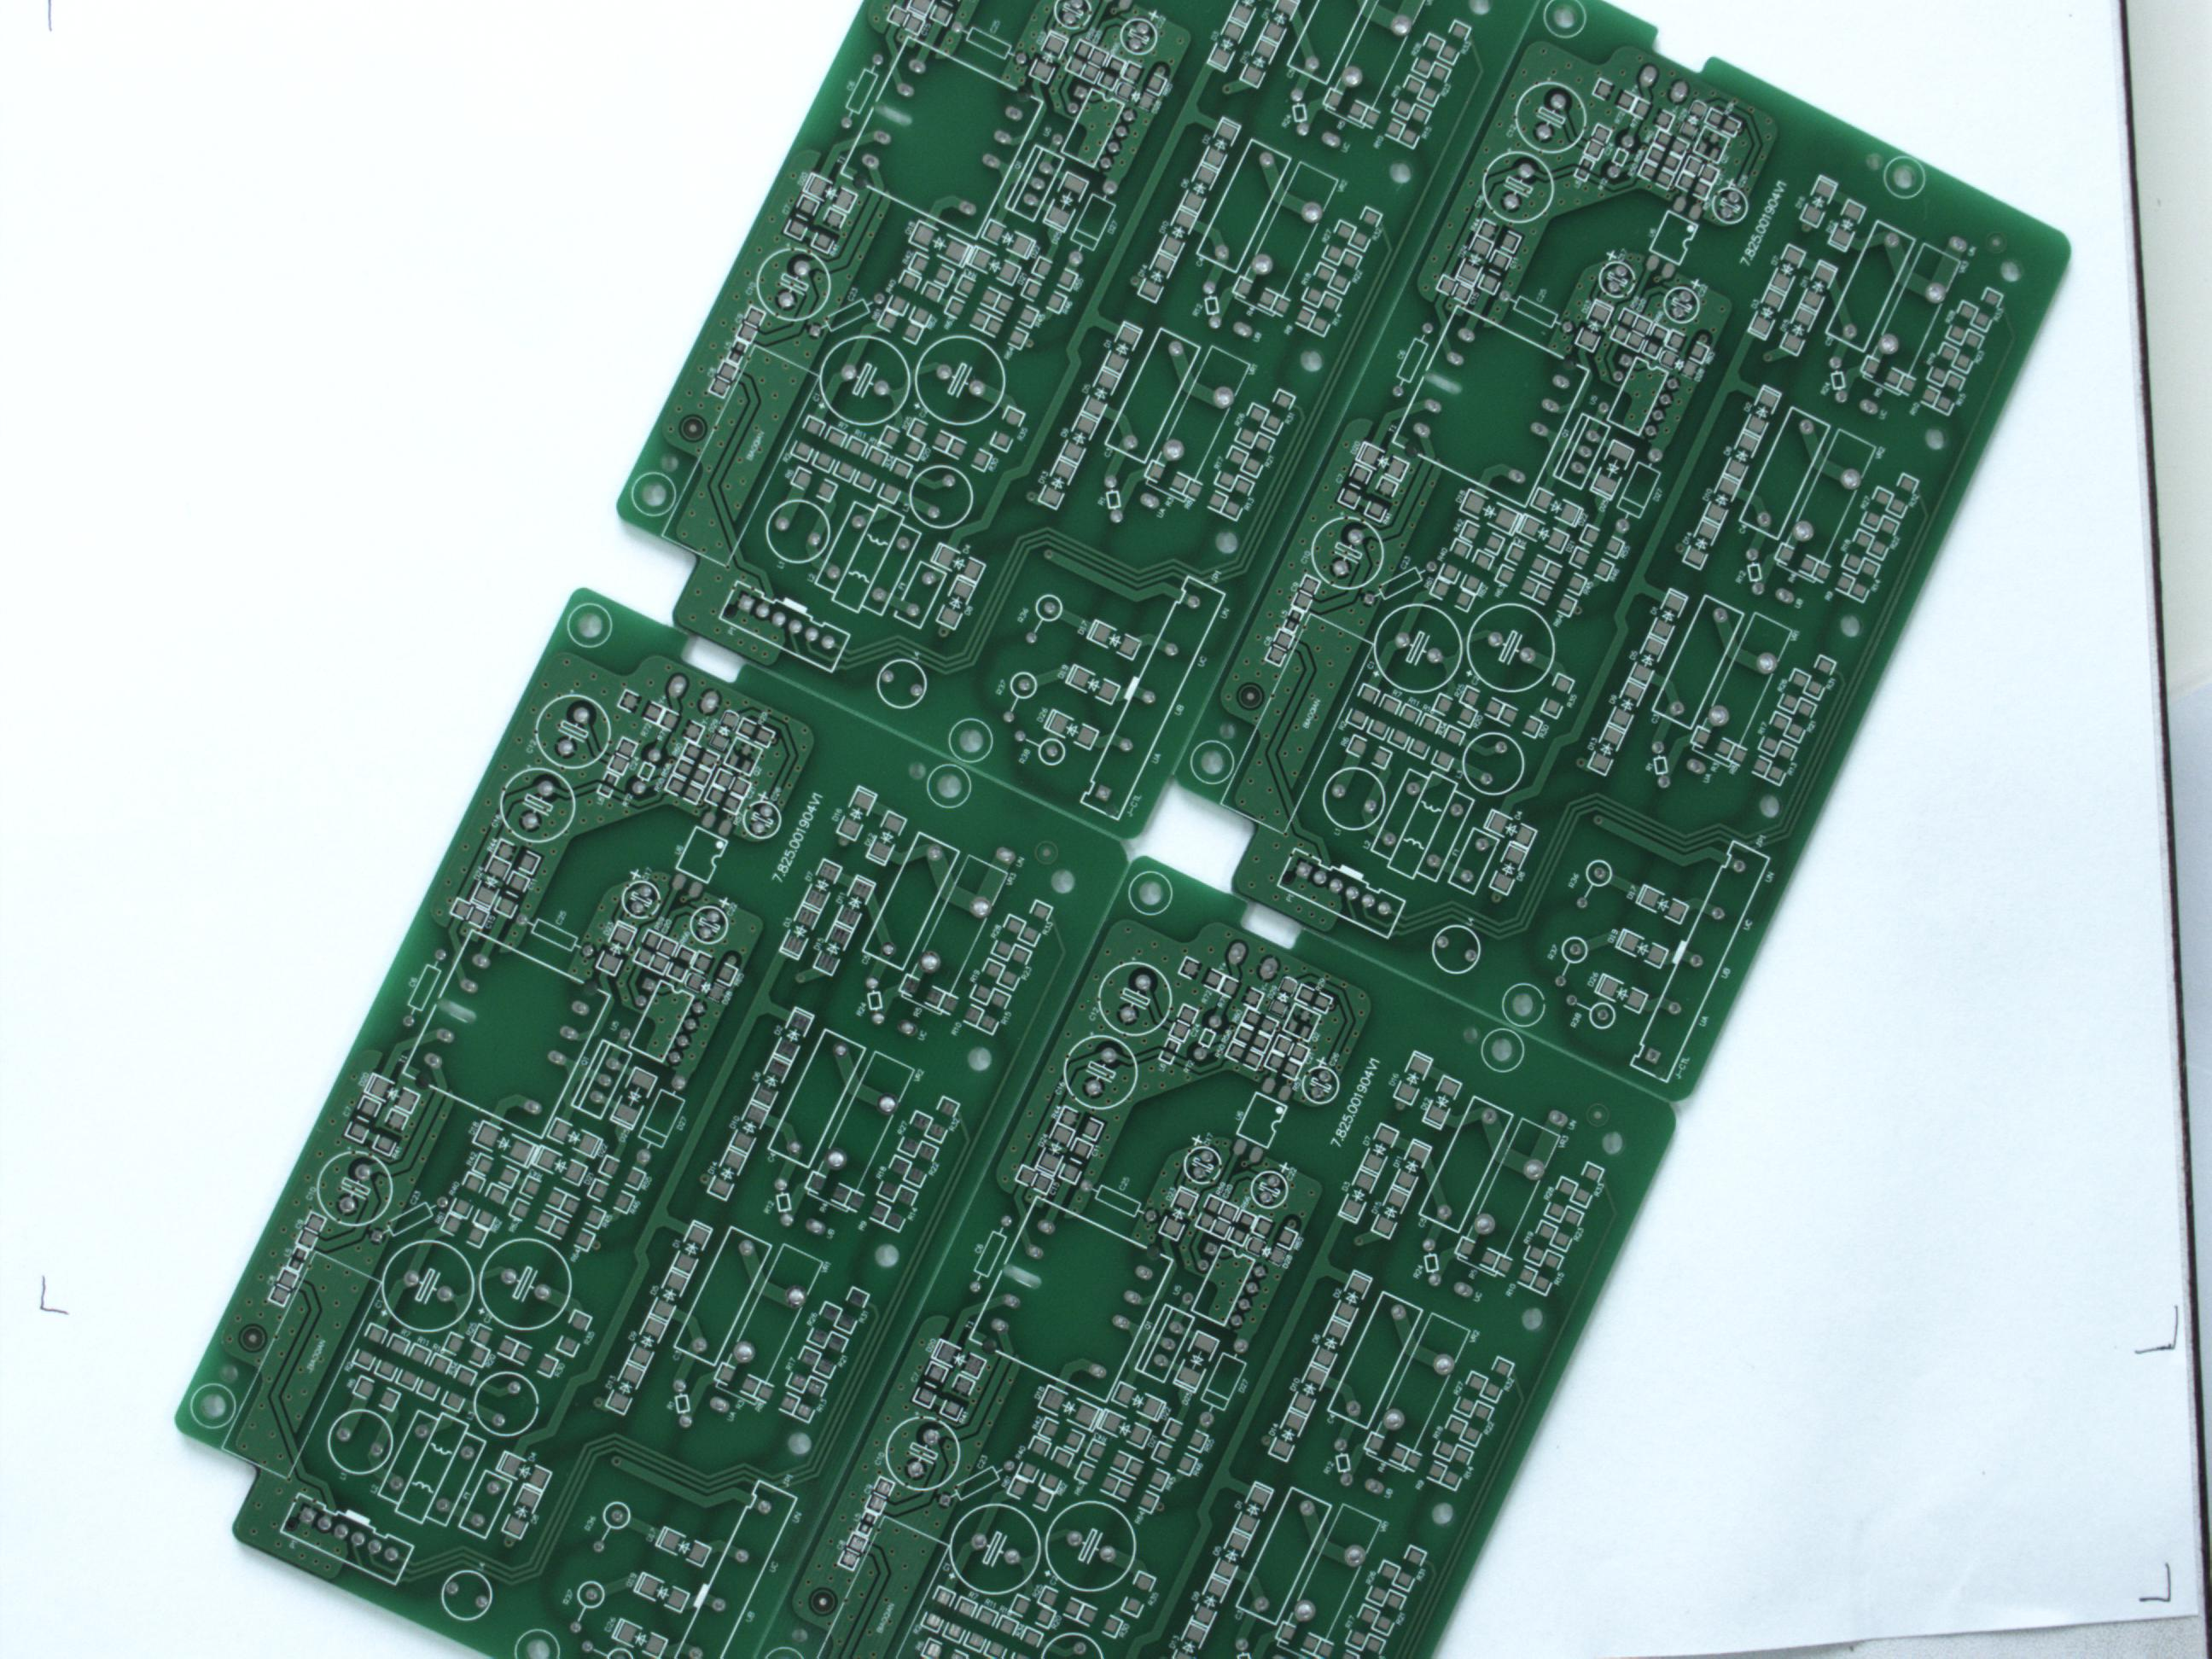ma: (563, 599, 615, 650), (923, 762, 974, 812), (627, 471, 679, 519), (1123, 868, 1176, 917), (1188, 737, 1237, 788), (1477, 1028, 1529, 1075), (946, 716, 995, 765), (1498, 981, 1547, 1030), (186, 1384, 237, 1431), (1881, 155, 1928, 204), (1541, 0, 1588, 40), (510, 1626, 564, 1659)
